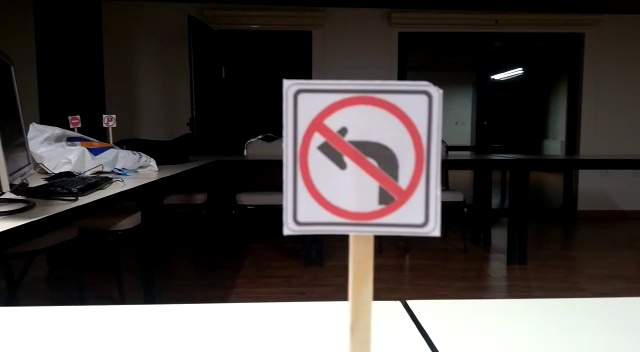sola_donulmez: (285, 80, 439, 234)
